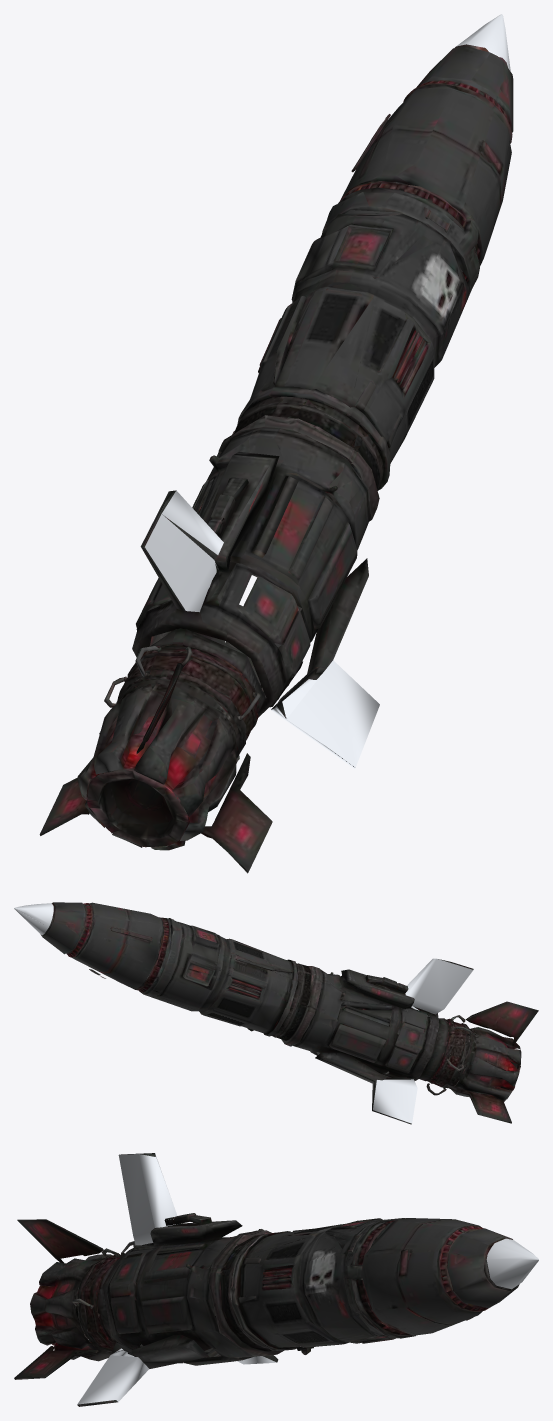
Rendered from silver_death_star.glb.
The picture shows the model from 3 angles, top to bottom: view 1: azimuth 30°, elevation 25°; view 2: azimuth 150°, elevation 25°; view 3: azimuth 270°, elevation 25°; orthographic projection. The views are drawn at different scales.
Parts seen in each view (by area): view 1: a67091af-92d4-4ce9-b840-c3ded6db0d18; view 2: a67091af-92d4-4ce9-b840-c3ded6db0d18; view 3: a67091af-92d4-4ce9-b840-c3ded6db0d18.
Boxes of the visible parts, x1,y1,x2,y2 form: a67091af-92d4-4ce9-b840-c3ded6db0d18: (39,14,513,873); a67091af-92d4-4ce9-b840-c3ded6db0d18: (14,902,538,1124); a67091af-92d4-4ce9-b840-c3ded6db0d18: (14,1153,538,1406).
Bounding box in the file's own units: 0.9995 × 0.5972 × 0.8325.
Materials: 2 (1 with a texture image).
